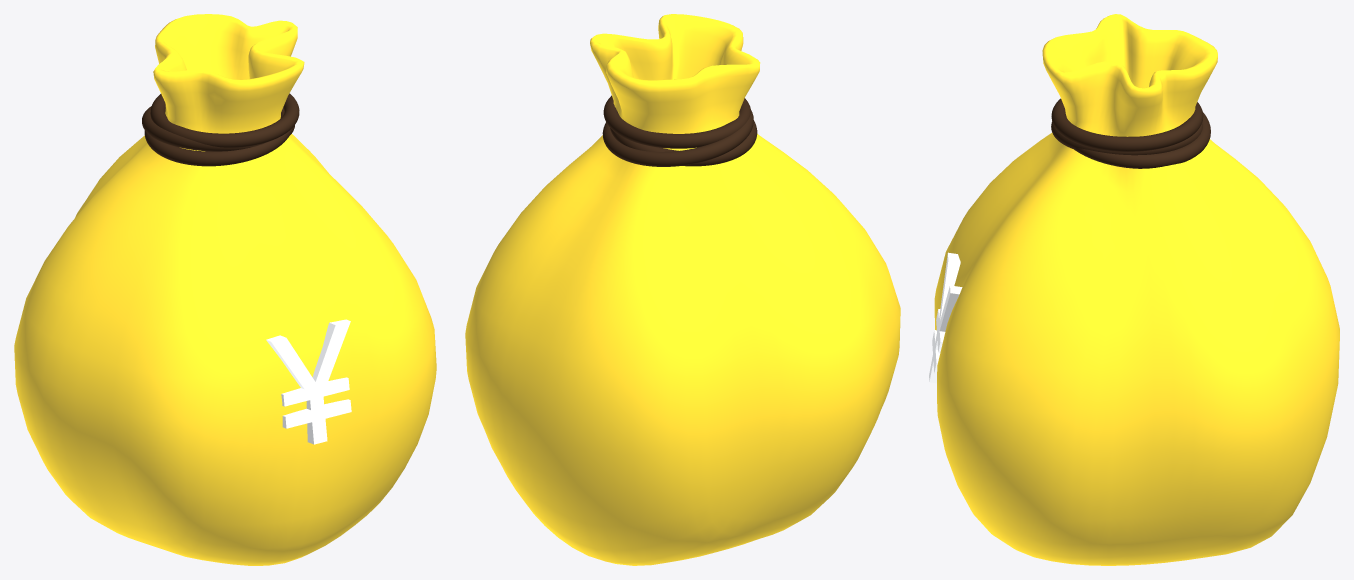
Rendered from Purse.glb.
3 views of the same model, side by side, from view 1: azimuth 30°, elevation 25°; view 2: azimuth 150°, elevation 25°; view 3: azimuth 270°, elevation 25° (orthographic). The views are drawn at different scales.
Parts seen in each view (by area): view 1: Cube, ¥, Torus 2, Torus, Torus 3; view 2: Cube, Torus 2, Torus 3, Torus; view 3: Cube, Torus 2, Torus 3, ¥, Torus.
Boxes of the visible parts, bbox=[...] form: Cube: bbox=[14, 14, 436, 565]; ¥: bbox=[266, 319, 351, 444]; Torus 2: bbox=[150, 93, 299, 147]; Torus: bbox=[144, 108, 293, 166]; Torus 3: bbox=[142, 106, 294, 151]; Cube: bbox=[465, 14, 900, 565]; Torus 2: bbox=[603, 95, 751, 148]; Torus 3: bbox=[602, 111, 753, 166]; Torus: bbox=[610, 121, 757, 166]; Cube: bbox=[934, 14, 1339, 565]; Torus 2: bbox=[1051, 98, 1203, 151]; Torus 3: bbox=[1074, 112, 1210, 168]; ¥: bbox=[929, 252, 962, 383]; Torus: bbox=[1051, 121, 1202, 155].
Bounding box in the file's own units: 0.4501 × 0.5693 × 0.4319.
